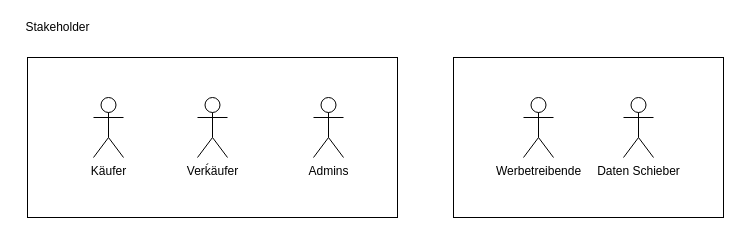
Some shapes in this 741 by 235 pixel diagram are drawn without their labels. Here are the shapes that lost their labels. From the top down, the box of each, then its label:
(26, 56, 398, 218): Haupt Stakeholder
(452, 56, 724, 218): Sekund. Stakeholder
